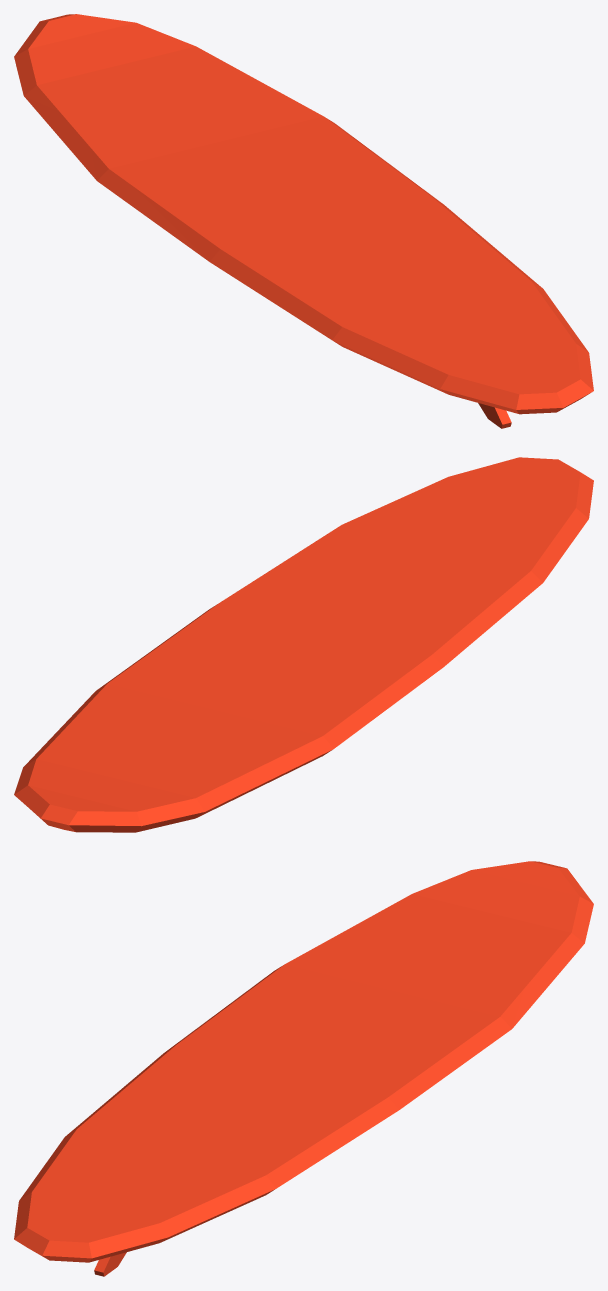
The model's file is SM_Surf_D_City.fbx.
3 renders of one model, top to bottom at view 1: azimuth 30°, elevation 25°; view 2: azimuth 150°, elevation 25°; view 3: azimuth 330°, elevation 25°, orthographic.
Visible parts, largest first — view 1: SM_Surf_D_City; view 2: SM_Surf_D_City; view 3: SM_Surf_D_City.
Boxes of the visible parts, bbox=[...] form: SM_Surf_D_City: bbox=[14, 14, 593, 428]; SM_Surf_D_City: bbox=[14, 457, 593, 832]; SM_Surf_D_City: bbox=[14, 861, 593, 1276].
Size of the model in its own units: 0.7493 by 0.2581 by 2.79.
